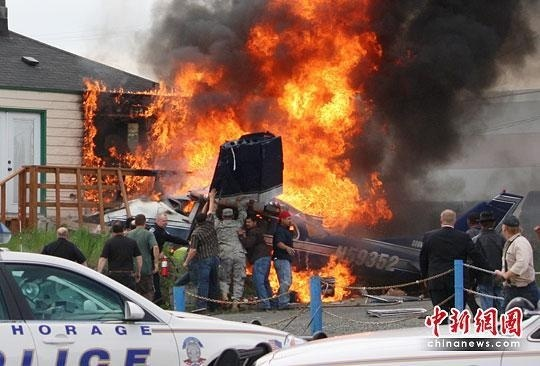fire: (89, 2, 403, 264)
